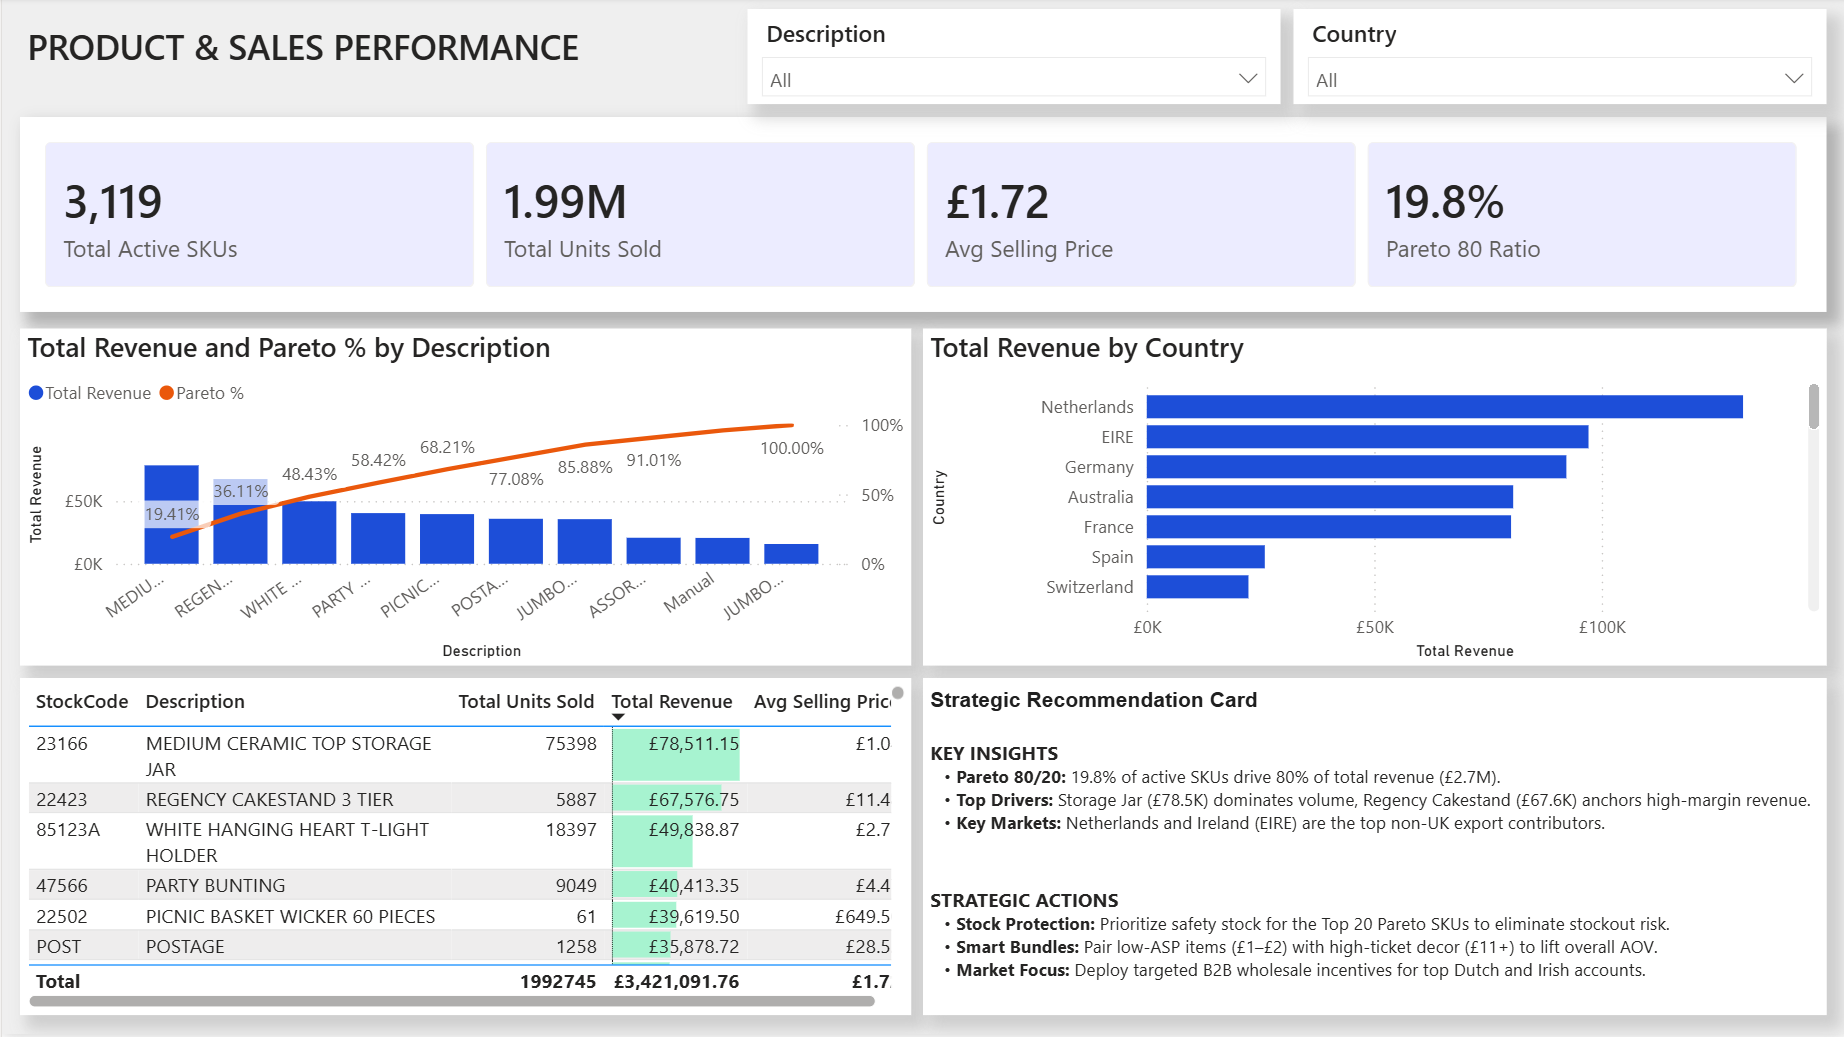

This screenshot's page, from the dashboard's own definition file:
{"tool":"powerbi","page":{"name":"Products & Sales Performance","canvas":[1280,720],"ordinal":2},"visuals":[{"type":"textbox","box":[12.5,12.5,486.2,45],"z":0},{"type":"cardVisual","fields":{"Data":["Measures (2).Total Active SKUs","Measures (2).Total Units Sold","Measures (2).Avg Selling Price","Measures (2).Pareto 80 Ratio"]},"box":[12.5,83.8,1253.8,135],"z":1000},{"type":"slicer","fields":{"Values":["transactions_clean.Description"]},"box":[517.5,8.8,370,66.2],"z":2000},{"type":"slicer","fields":{"Values":["transactions_clean.Country"]},"box":[896.2,8.8,370,66.2],"z":3000},{"type":"lineClusteredColumnComboChart","fields":{"Category":["transactions_clean.Description"],"Y":["Measures (2).Total Revenue"],"Y2":["Measures (2).Pareto %"]},"box":[12.1,230.4,618.7,234],"z":4000},{"type":"clusteredBarChart","fields":{"Category":["transactions_clean.Country"],"Y":["Measures (2).Total Revenue"]},"box":[639.2,230.4,627.1,234],"z":5000},{"type":"tableEx","fields":{"Values":["transactions_clean.StockCode","transactions_clean.Description","Measures (2).Total Units Sold","Measures (2).Total Revenue","Measures (2).Avg Selling Price"]},"box":[12.1,472.8,618.7,234],"z":6000},{"type":"textbox","box":[639,473,627,234],"z":7000}]}

Visuals, with their boxes in screenshot pixels (x1, y1, x2, y2), scaled from the page's 1280x720 canvas onto the 1844x1037 screenshot:
textbox: pyautogui.locateOnScreen(18, 18, 718, 83)
cardVisual - Measures (2).Total Active SKUs x Measures (2).Total Units Sold: pyautogui.locateOnScreen(18, 121, 1824, 315)
slicer - transactions_clean.Description: pyautogui.locateOnScreen(746, 13, 1279, 108)
slicer - transactions_clean.Country: pyautogui.locateOnScreen(1291, 13, 1824, 108)
lineClusteredColumnComboChart - transactions_clean.Description x Measures (2).Total Revenue: pyautogui.locateOnScreen(17, 332, 909, 669)
clusteredBarChart - transactions_clean.Country x Measures (2).Total Revenue: pyautogui.locateOnScreen(921, 332, 1824, 669)
tableEx - transactions_clean.StockCode x transactions_clean.Description: pyautogui.locateOnScreen(17, 681, 909, 1018)
textbox: pyautogui.locateOnScreen(921, 681, 1824, 1018)
